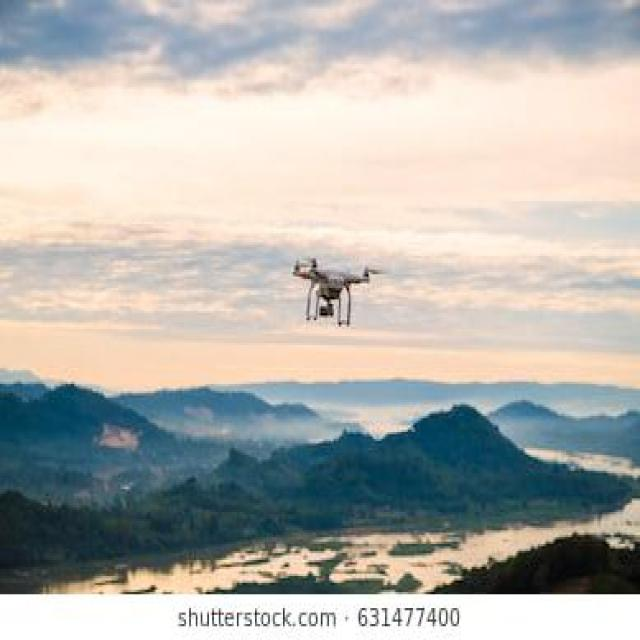drone: (278, 228, 392, 348)
